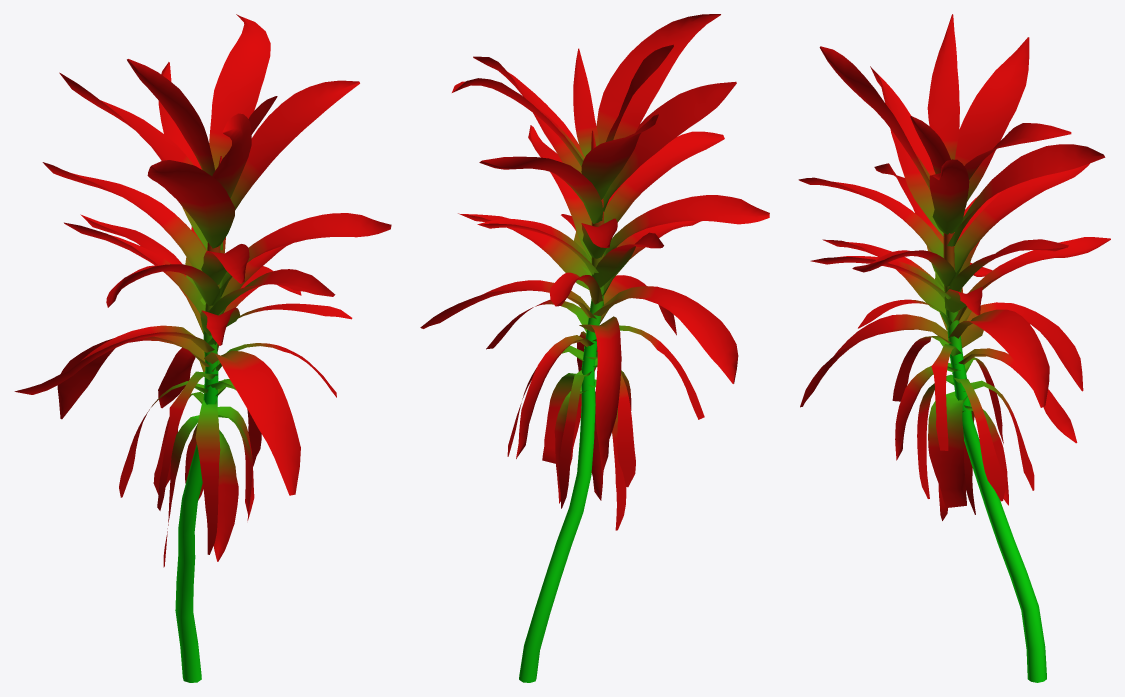
The model's file is Dragon Tree_LOD0_Var2_sikoN.fbx.
3 renders of one model, left to right at view 1: azimuth 30°, elevation 25°; view 2: azimuth 150°, elevation 25°; view 3: azimuth 270°, elevation 25°, orthographic. The views are drawn at different scales.
Visible parts, largest first — view 1: _5631_Var2_LOD0; view 2: _5631_Var2_LOD0; view 3: _5631_Var2_LOD0.
Boxes of the visible parts, x1,y1,x2,y2 form: _5631_Var2_LOD0: [14, 14, 391, 682]; _5631_Var2_LOD0: [420, 14, 769, 682]; _5631_Var2_LOD0: [798, 14, 1110, 682].
Bounding box in the file's own units: 41.5 × 85.95 × 39.52.
